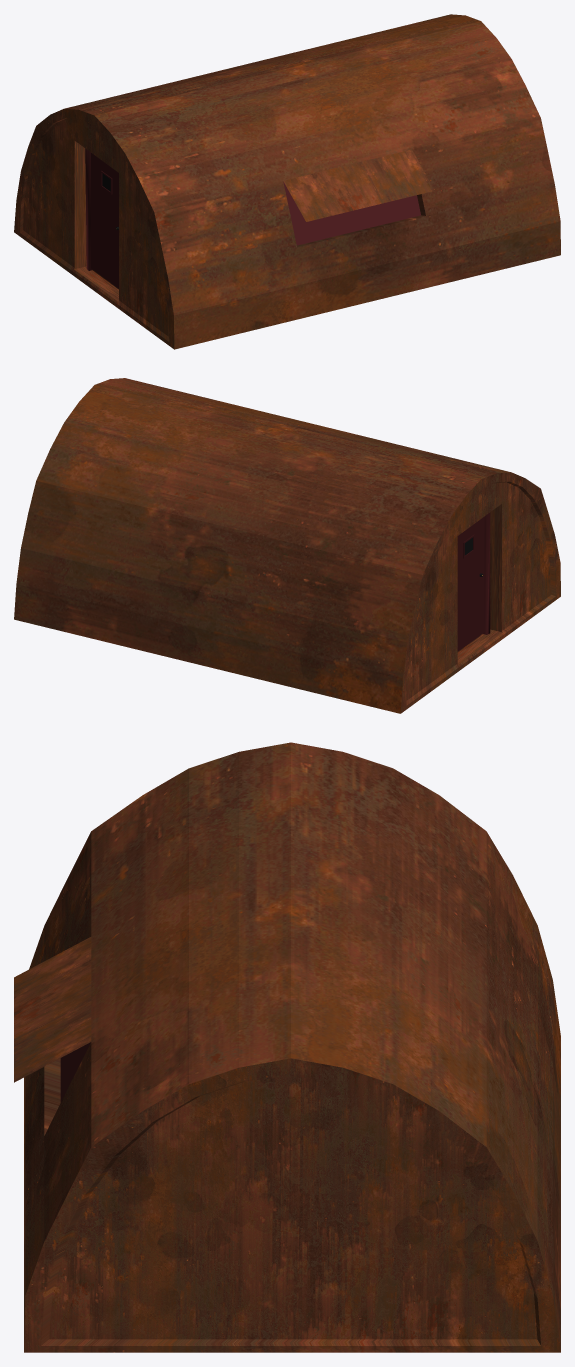
The model's file is garage.fbx.
3 views of the same model, one above another, from view 1: azimuth 30°, elevation 25°; view 2: azimuth 150°, elevation 25°; view 3: azimuth 270°, elevation 25° (orthographic). The views are drawn at different scales.
Parts seen in each view (by area): view 1: Cylinder, door2.001, Door Frame_2.001; view 2: Cylinder, door2.001, Door Frame_2.001; view 3: Cylinder.
Boxes of the visible parts, x1,y1,x2,y2 form: Cylinder: (14,14,560,349); door2.001: (91,153,118,288); Door Frame_2.001: (85,148,92,270); Cylinder: (14,378,560,713); door2.001: (457,516,484,651); Door Frame_2.001: (483,512,490,634); Cylinder: (14,742,560,1352).
Size of the model in its own units: 700 by 304 by 512.
Materials: 5 (1 with a texture image).
